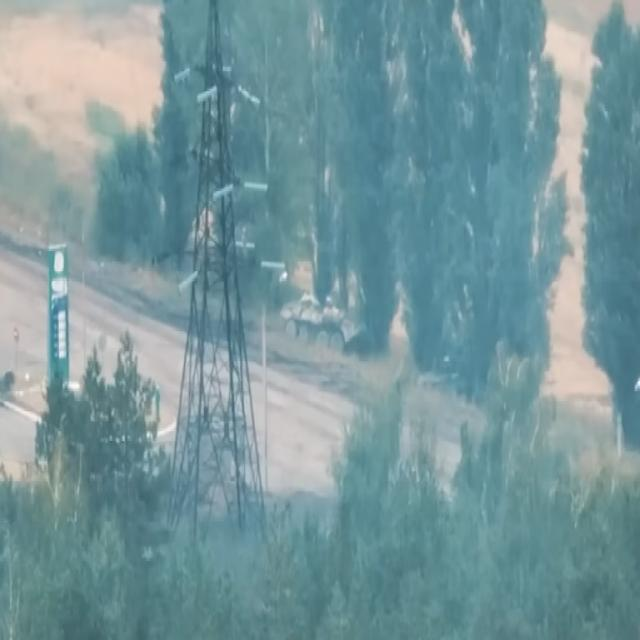APC-IFV: (279, 271, 366, 358)
